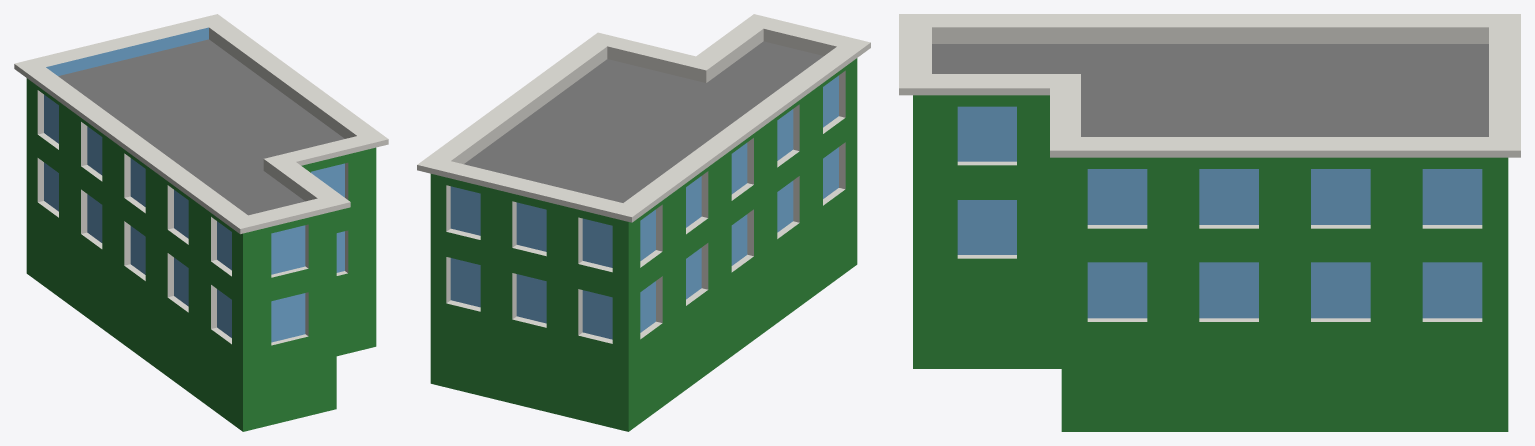
The model's file is Buidling5.fbx.
3 views of the same model, side by side, from view 1: azimuth 30°, elevation 25°; view 2: azimuth 150°, elevation 25°; view 3: azimuth 270°, elevation 25° (orthographic). The views are drawn at different scales.
Parts seen in each view (by area): view 1: City.007; view 2: City.007; view 3: City.007.
Boxes of the visible parts, bbox=[...] form: City.007: bbox=[14, 14, 388, 431]; City.007: bbox=[417, 14, 870, 431]; City.007: bbox=[899, 14, 1520, 431].
Size of the model in its own units: 1833 by 1795 by 3526.
